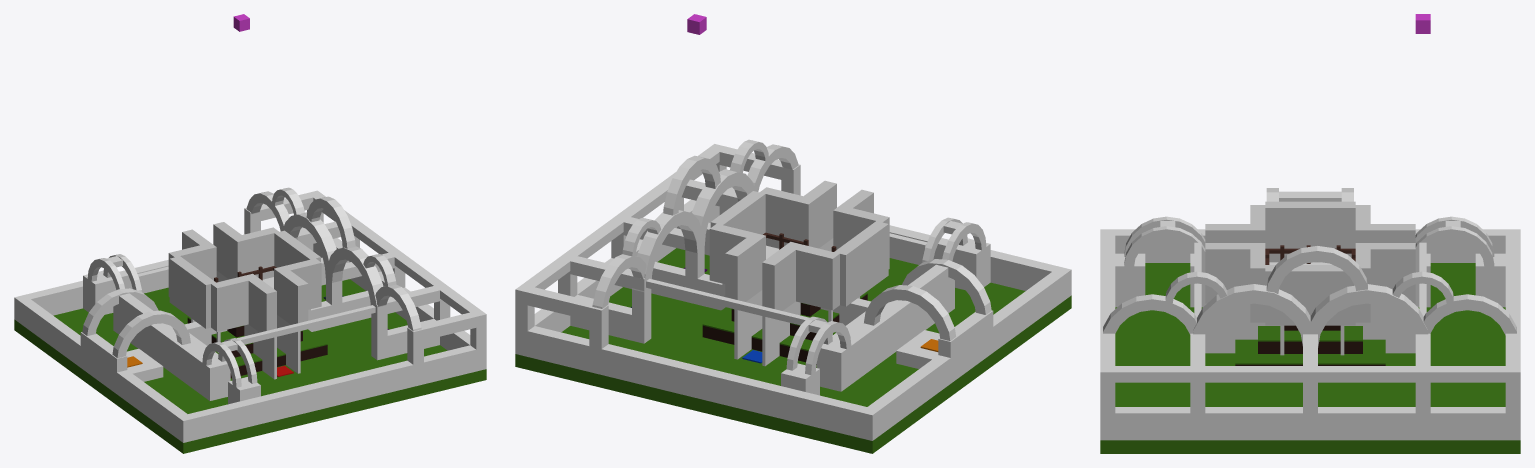
Rendered from world.obj.
3 renders of one model, left to right at view 1: azimuth 30°, elevation 25°; view 2: azimuth 150°, elevation 25°; view 3: azimuth 270°, elevation 25°, orthographic. The views are drawn at different scales.
Parts seen in each view (by area): view 1: Floor.078_Cube.122, Wall.000_Cube.000, Wall.1002_Cube.005, Floor.016_Cube.036, Floor.001_Cube.002, Wall.001_Cube.117, Boundary.001_Cube.071, Wall.1104_Cube.003, Boundary.005_Cube.075, Boundary.007_Cube.077, Boundary.1005_Cube.014, Boundary.1101_Cube.013 (+33 smaller); view 2: Floor.001_Cube.002, Floor.078_Cube.122, Wall.1104_Cube.003, Wall.1002_Cube.005, Floor.016_Cube.036, Wall.001_Cube.117, Boundary.001_Cube.071, Wall.000_Cube.000, Boundary.006_Cube.076, Boundary.003_Cube.073, Boundary.004_Cube.074, Boundary.1101_Cube.013 (+41 smaller); view 3: Floor.078_Cube.122, Floor.001_Cube.002, Wall.1003_Cube.004, Wall.001_Cube.117, Boundary.001_Cube.071, Floor.006_Cube.011, Wall.1002_Cube.005, Boundary.000_Cube.070, Floor.028_Cube.059, Floor.029_Cube.060, Floor.017_Cube.050, Boundary.1101_Cube.013 (+36 smaller).
Part boxes in pixels (left/top/right/bottom): Floor.078_Cube.122: left=14, top=279, right=486, bottom=453; Wall.000_Cube.000: left=188, top=345, right=476, bottom=440; Wall.1002_Cube.005: left=14, top=295, right=193, bottom=442; Floor.016_Cube.036: left=113, top=304, right=230, bottom=400; Floor.001_Cube.002: left=59, top=290, right=476, bottom=453; Wall.001_Cube.117: left=308, top=190, right=486, bottom=324; Boundary.001_Cube.071: left=169, top=256, right=215, bottom=328; Wall.1104_Cube.003: left=25, top=227, right=313, bottom=315; Boundary.005_Cube.075: left=211, top=273, right=252, bottom=331; Boundary.007_Cube.077: left=231, top=227, right=278, bottom=279; Boundary.1005_Cube.014: left=247, top=274, right=276, bottom=332; Boundary.1101_Cube.013: left=274, top=268, right=308, bottom=324; Floor.001_Cube.002: left=527, top=248, right=1024, bottom=452; Floor.078_Cube.122: left=515, top=248, right=1071, bottom=453; Wall.1104_Cube.003: left=527, top=326, right=866, bottom=437; Wall.1002_Cube.005: left=860, top=266, right=1071, bottom=440; Floor.016_Cube.036: left=816, top=277, right=954, bottom=391; Wall.001_Cube.117: left=515, top=144, right=726, bottom=301; Boundary.001_Cube.071: left=834, top=221, right=888, bottom=306; Wall.000_Cube.000: left=719, top=187, right=1058, bottom=290; Boundary.006_Cube.076: left=790, top=241, right=839, bottom=310; Boundary.003_Cube.073: left=725, top=232, right=765, bottom=301; Boundary.004_Cube.074: left=759, top=187, right=812, bottom=248; Boundary.1101_Cube.013: left=796, top=180, right=836, bottom=248; Floor.078_Cube.122: left=1100, top=263, right=1520, bottom=453; Floor.001_Cube.002: left=1115, top=263, right=1505, bottom=406; Wall.1003_Cube.004: left=1100, top=407, right=1520, bottom=440; Wall.001_Cube.117: left=1100, top=366, right=1520, bottom=382; Boundary.001_Cube.071: left=1265, top=201, right=1355, bottom=262; Floor.006_Cube.011: left=1205, top=303, right=1415, bottom=353; Wall.1002_Cube.005: left=1100, top=229, right=1520, bottom=262; Boundary.000_Cube.070: left=1265, top=265, right=1355, bottom=325; Floor.028_Cube.059: left=1193, top=284, right=1315, bottom=345; Floor.029_Cube.060: left=1310, top=284, right=1428, bottom=347; Floor.017_Cube.050: left=1235, top=339, right=1385, bottom=364; Boundary.1101_Cube.013: left=1205, top=243, right=1265, bottom=303.
Size of what is drawn, in the model's own units: 29 by 27 by 28.
